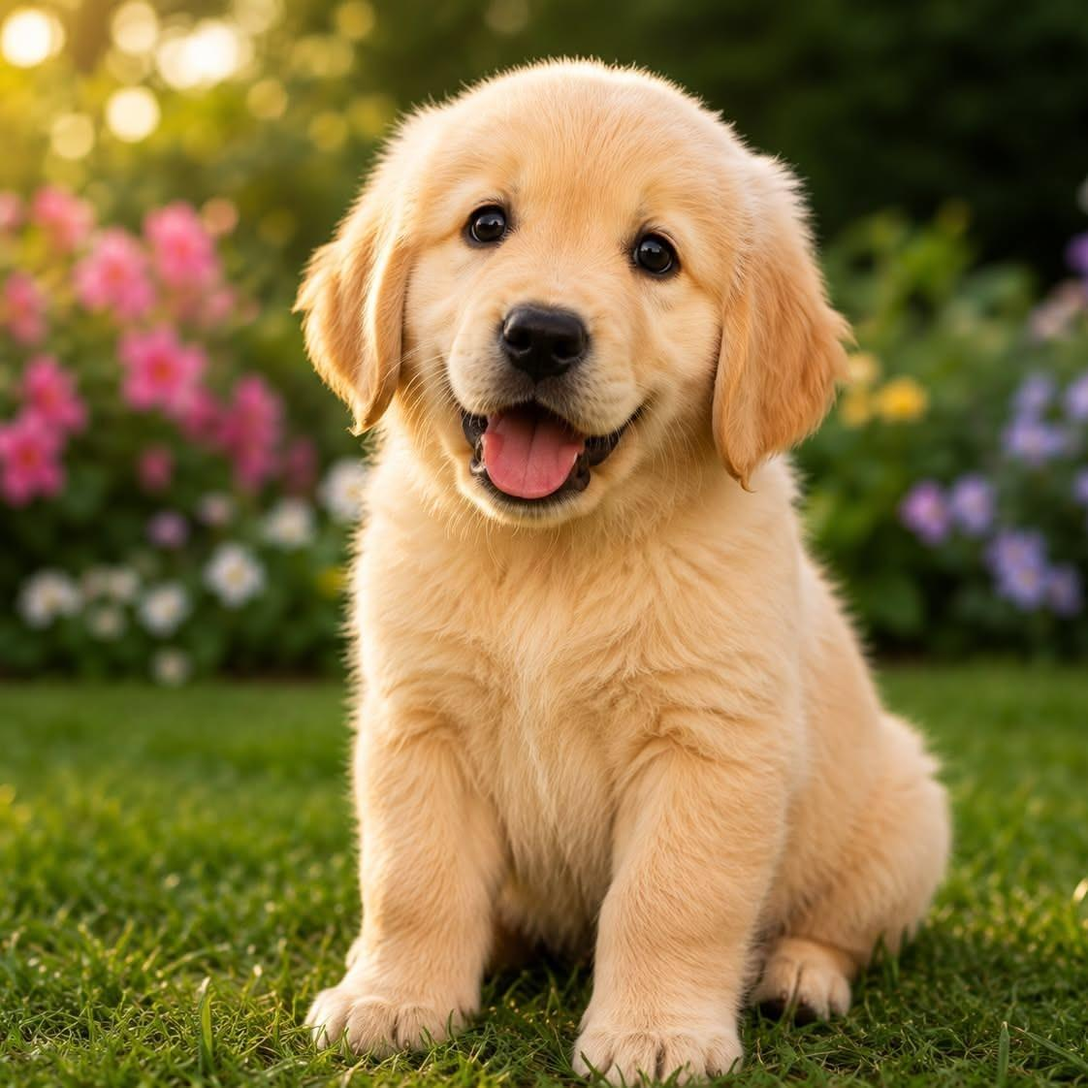puppy-dog: (294, 55, 955, 1086)
